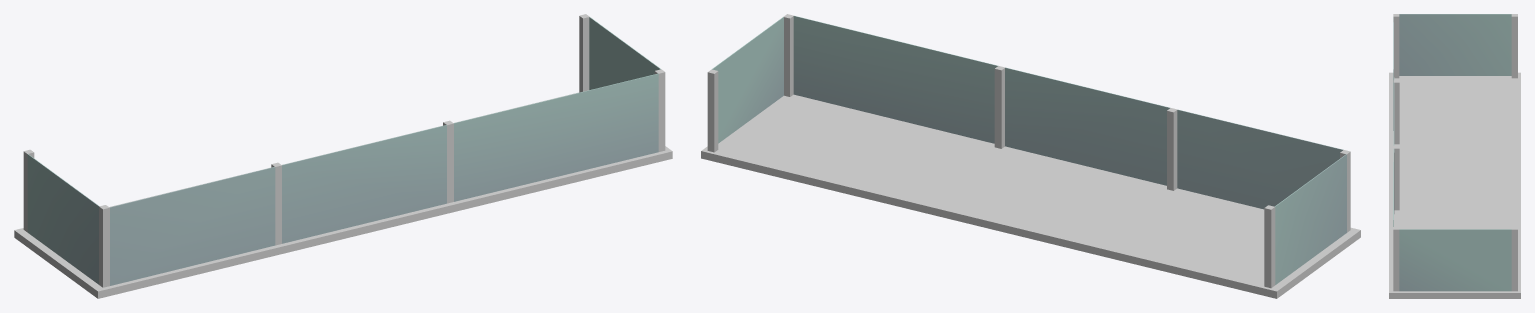
Rendered from the extension of the balconies is double.fbx.
3 renders of one model, left to right at view 1: azimuth 30°, elevation 25°; view 2: azimuth 150°, elevation 25°; view 3: azimuth 270°, elevation 25°, orthographic. The views are drawn at different scales.
Visible parts, largest first — view 1: Cube.165; view 2: Cube.165; view 3: Cube.165.
Boxes of the visible parts, x1,y1,x2,y2 form: Cube.165: [14, 14, 672, 298]; Cube.165: [701, 14, 1360, 298]; Cube.165: [1389, 14, 1520, 298].
Size of the model in its own units: 1179 by 168 by 298.
